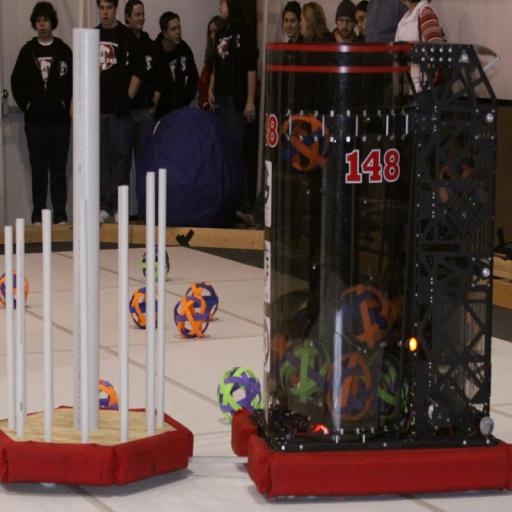robot: (230, 33, 512, 496)
